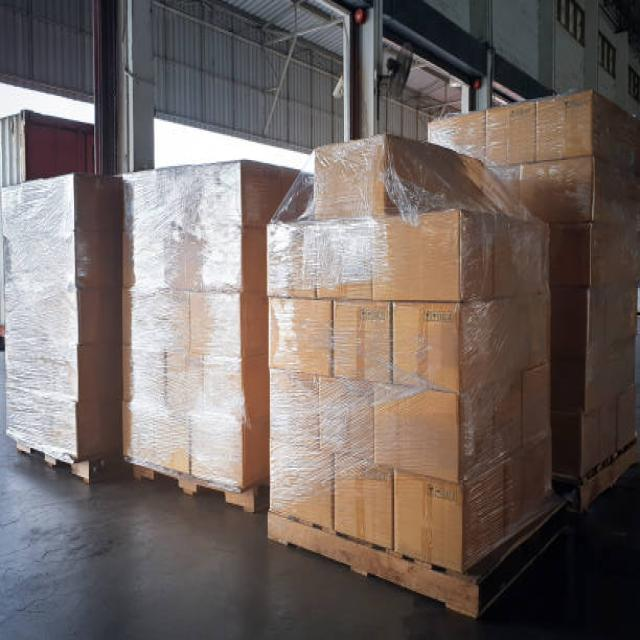Wooden-Pallets: (256, 489, 573, 632), (116, 442, 254, 524)
